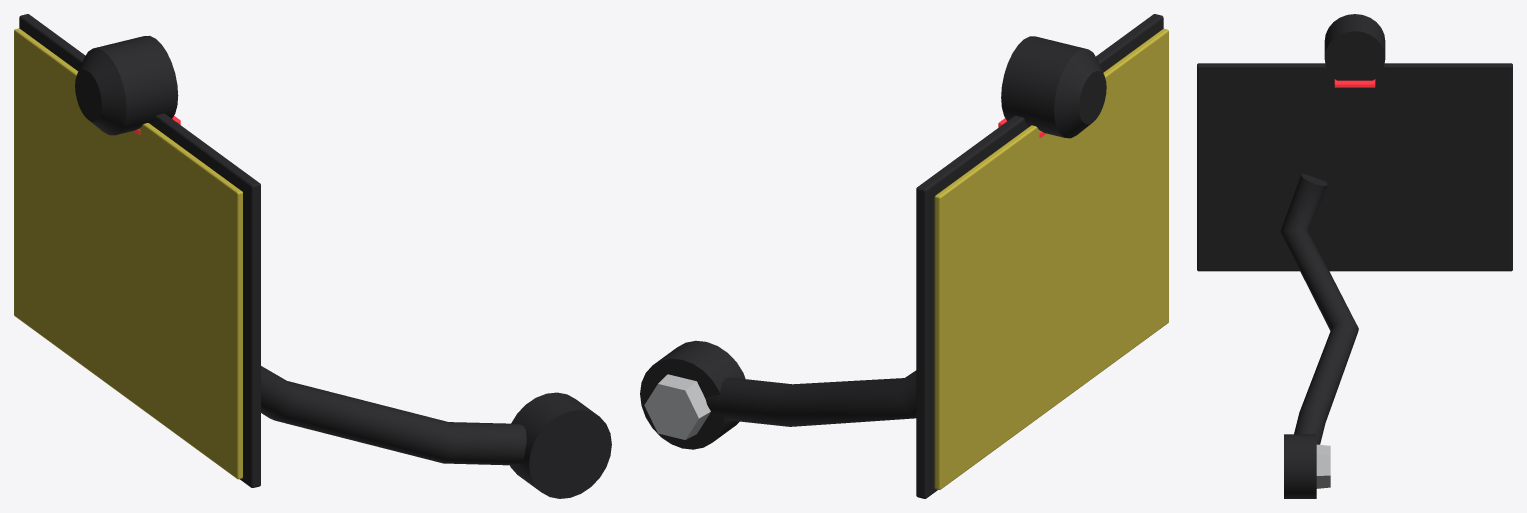
The model's file is side.glb.
The picture shows the model from 3 angles, left to right: view 1: azimuth 30°, elevation 25°; view 2: azimuth 150°, elevation 25°; view 3: azimuth 270°, elevation 25°; orthographic projection. The views are drawn at different scales.
Parts seen in each view (by area): view 1: plate_hanger_side; view 2: plate_hanger_side; view 3: plate_hanger_side.
Part boxes in pixels (<box>): plate_hanger_side: <box>14,14,611,498</box>; plate_hanger_side: <box>640,14,1168,498</box>; plate_hanger_side: <box>1197,14,1512,498</box>.
Size of the model in its own units: 0.182 by 0.188 by 0.156.
